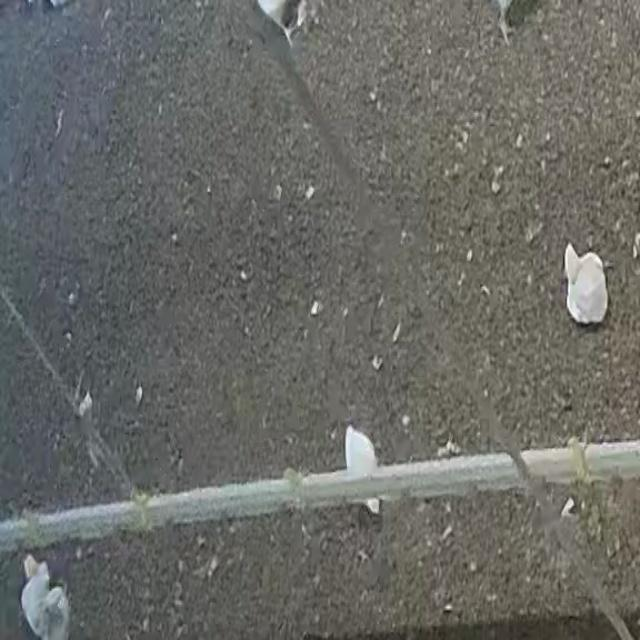chicken: (560, 238, 612, 328), (342, 425, 383, 518)
